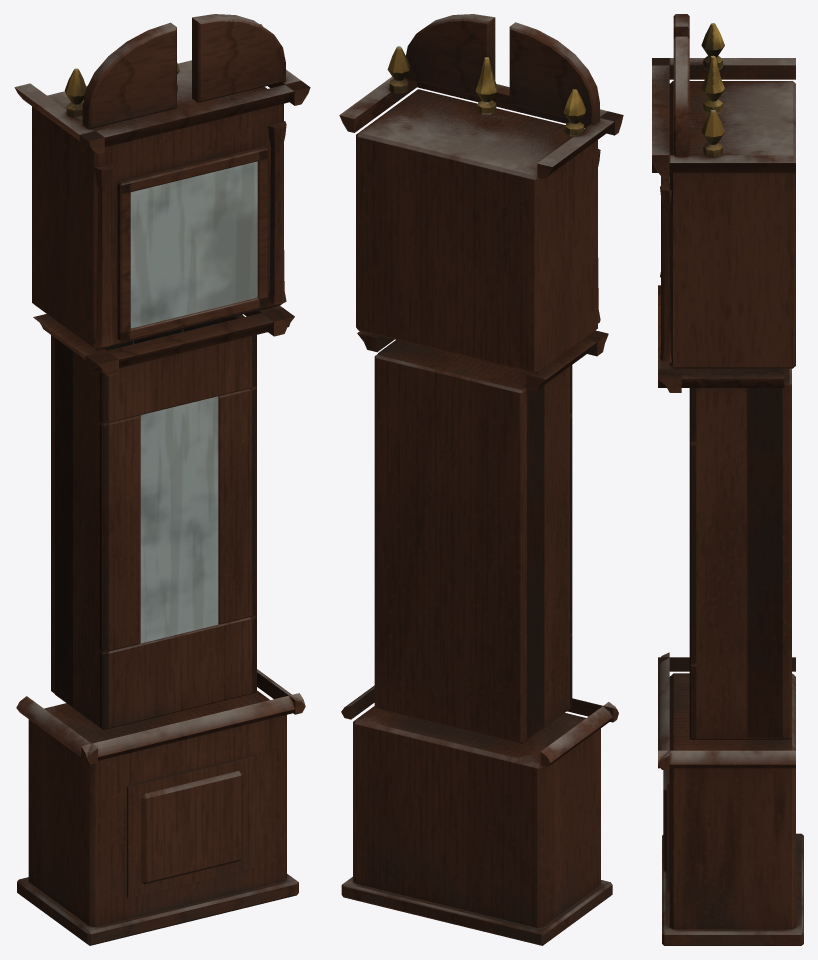
File: GrandfatherClock.fbx
The picture shows the model from 3 angles, left to right: view 1: azimuth 30°, elevation 25°; view 2: azimuth 150°, elevation 25°; view 3: azimuth 270°, elevation 25°; orthographic projection. The views are drawn at different scales.
Visible parts, largest first — view 1: Frame, Glass; view 2: Frame; view 3: Frame.
Part boxes in pixels (x1,y1,x2,y2): Frame: [14, 14, 310, 945]; Glass: [130, 161, 257, 643]; Frame: [339, 14, 623, 945]; Frame: [652, 14, 803, 945].
Size of the model in its own units: 1.89 by 7.26 by 1.15.
1 material, 1 textured.
